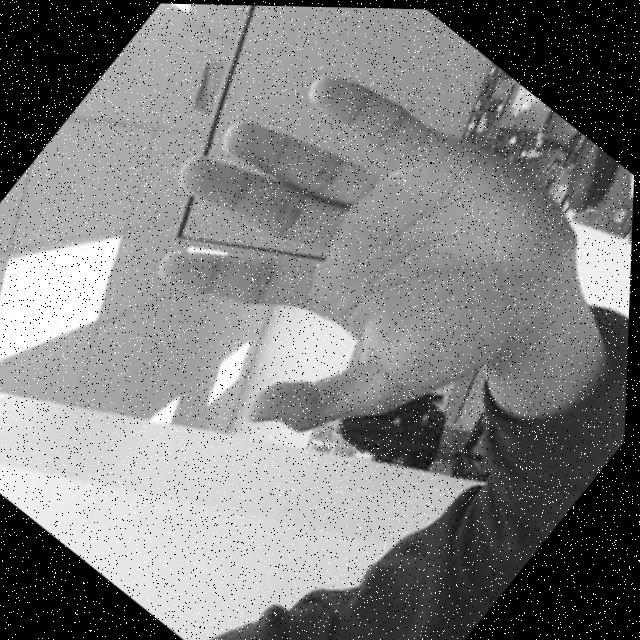no-gloves: (81, 1, 616, 524)
